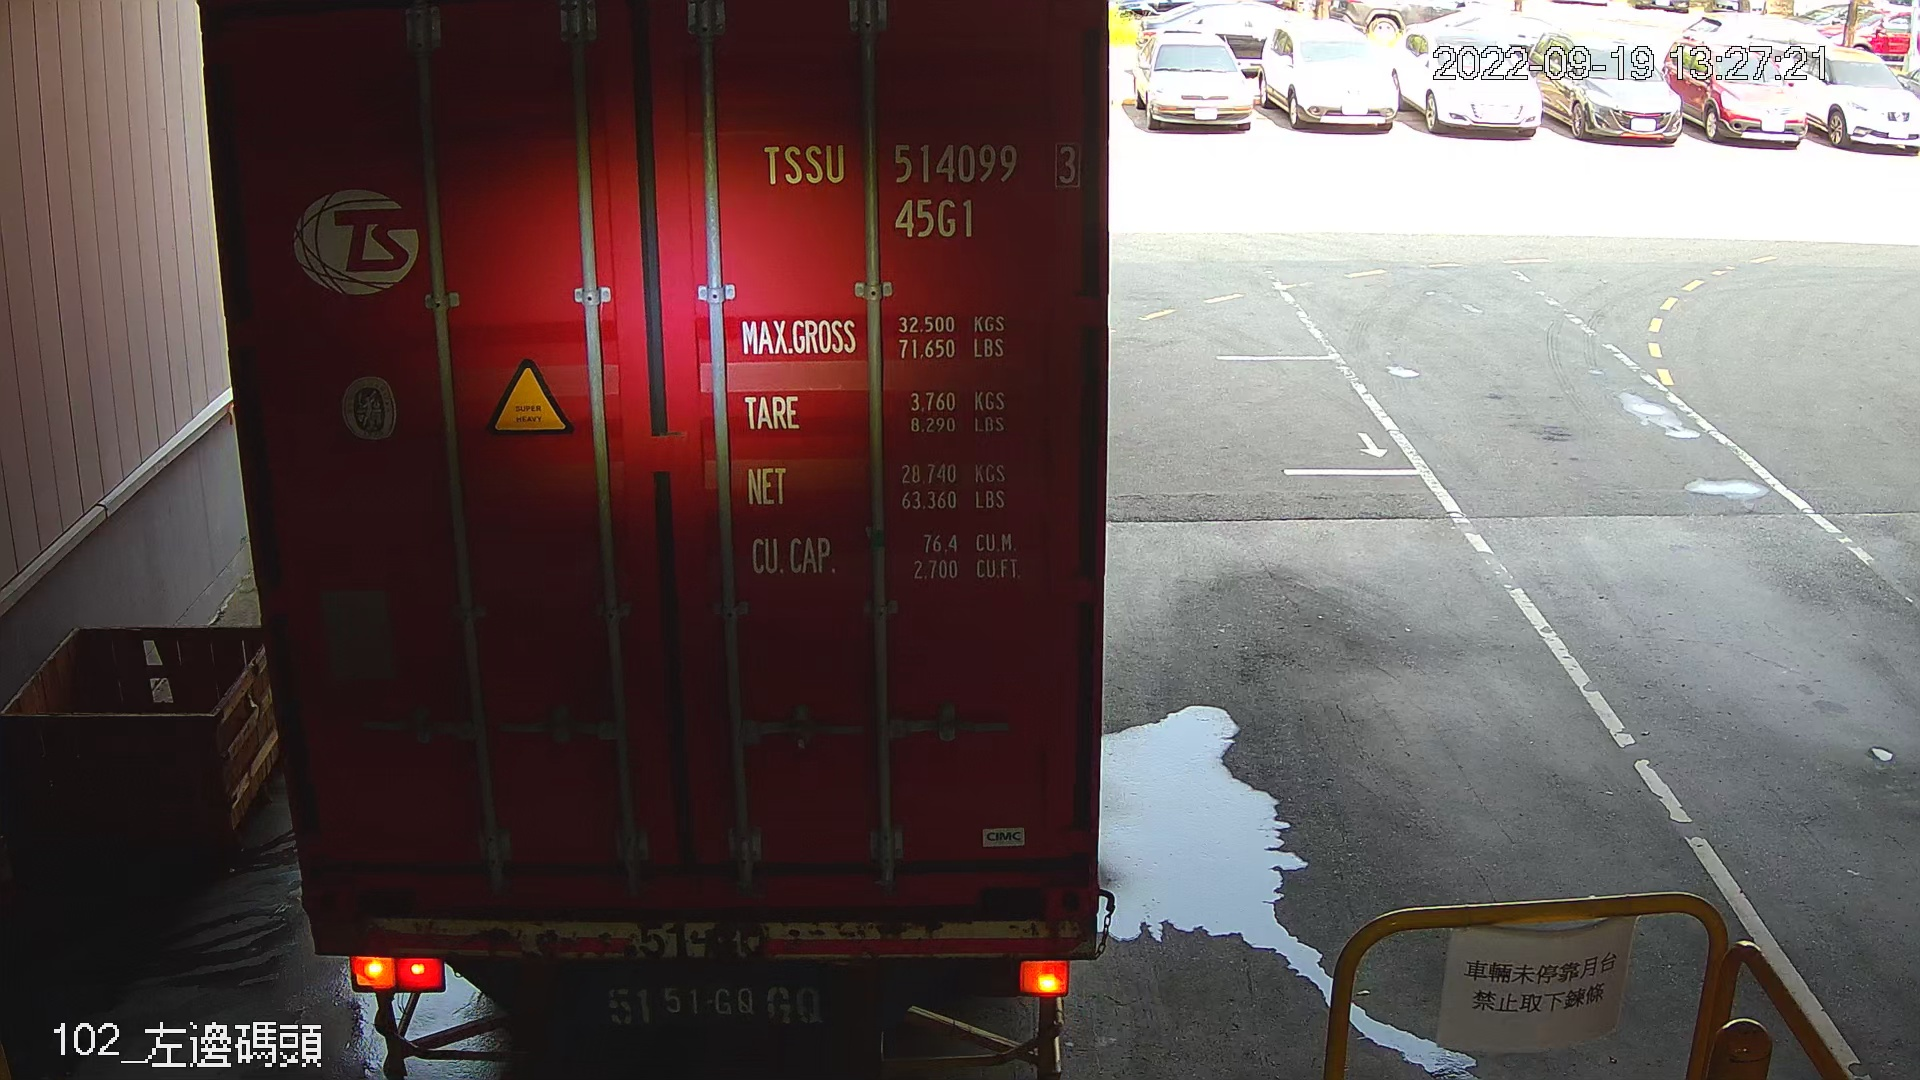container: (748, 131, 1092, 245)
